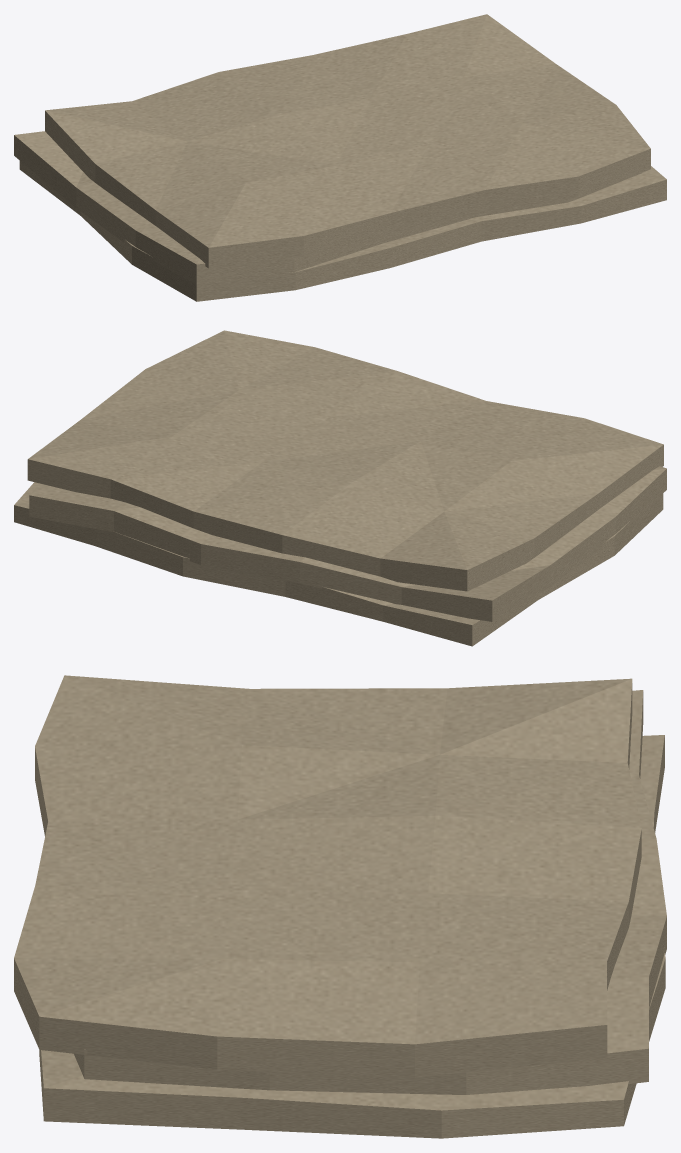
The model's file is FoldedLinen_LOD2.fbx.
3 renders of one model, top to bottom at view 1: azimuth 30°, elevation 25°; view 2: azimuth 150°, elevation 25°; view 3: azimuth 270°, elevation 25°, orthographic. The views are drawn at different scales.
Parts seen in each view (by area): view 1: FoldedLinen_LOD2; view 2: FoldedLinen_LOD2; view 3: FoldedLinen_LOD2.
Boxes of the visible parts, x1,y1,x2,y2 form: FoldedLinen_LOD2: [14, 14, 666, 301]; FoldedLinen_LOD2: [14, 330, 666, 646]; FoldedLinen_LOD2: [14, 675, 666, 1138].
Size of the model in its own units: 0.4423 by 0.055 by 0.321.
